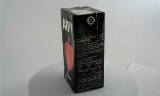appy: (56, 5, 99, 94)
